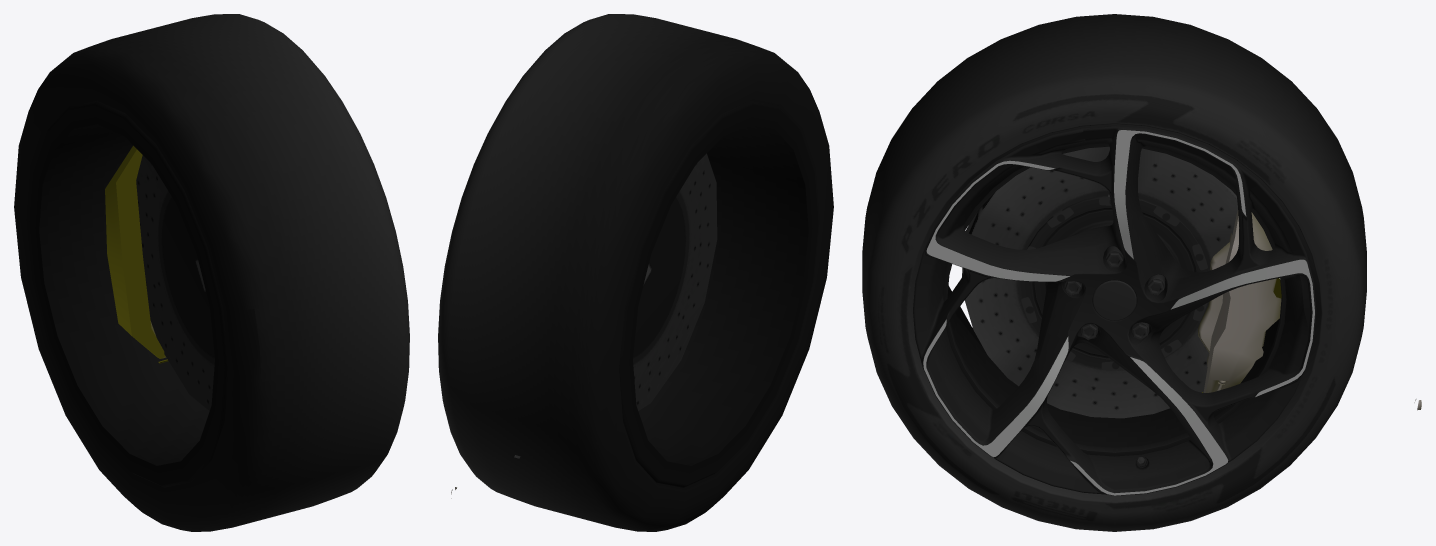
The model's file is wheels_lf.glb.
3 renders of one model, left to right at view 1: azimuth 30°, elevation 25°; view 2: azimuth 150°, elevation 25°; view 3: azimuth 270°, elevation 25°, orthographic.
Visible parts, largest first — view 1: polySurface135_McLaren_Elva_2021_Wheel1A_3D_3DWheel1A_Materi (×2); view 2: polySurface135_McLaren_Elva_2021_Wheel1A_3D_3DWheel1A_Materi (×2); view 3: polySurface135_McLaren_Elva_2021_Wheel1A_3D_3DWheel1A_Materi (×2).
Part boxes in pixels (x1,y1,x2,y2): polySurface135_McLaren_Elva_2021_Wheel1A_3D_3DWheel1A_Materi (×2): (14, 14, 409, 531); polySurface135_McLaren_Elva_2021_Wheel1A_3D_3DWheel1A_Materi (×2): (438, 14, 833, 531); polySurface135_McLaren_Elva_2021_Wheel1A_3D_3DWheel1A_Materi (×2): (862, 14, 1421, 531).
Size of the model in its own units: 0.00267 by 0.00656 by 0.00725.
Materials: 2 (1 with a texture image).
